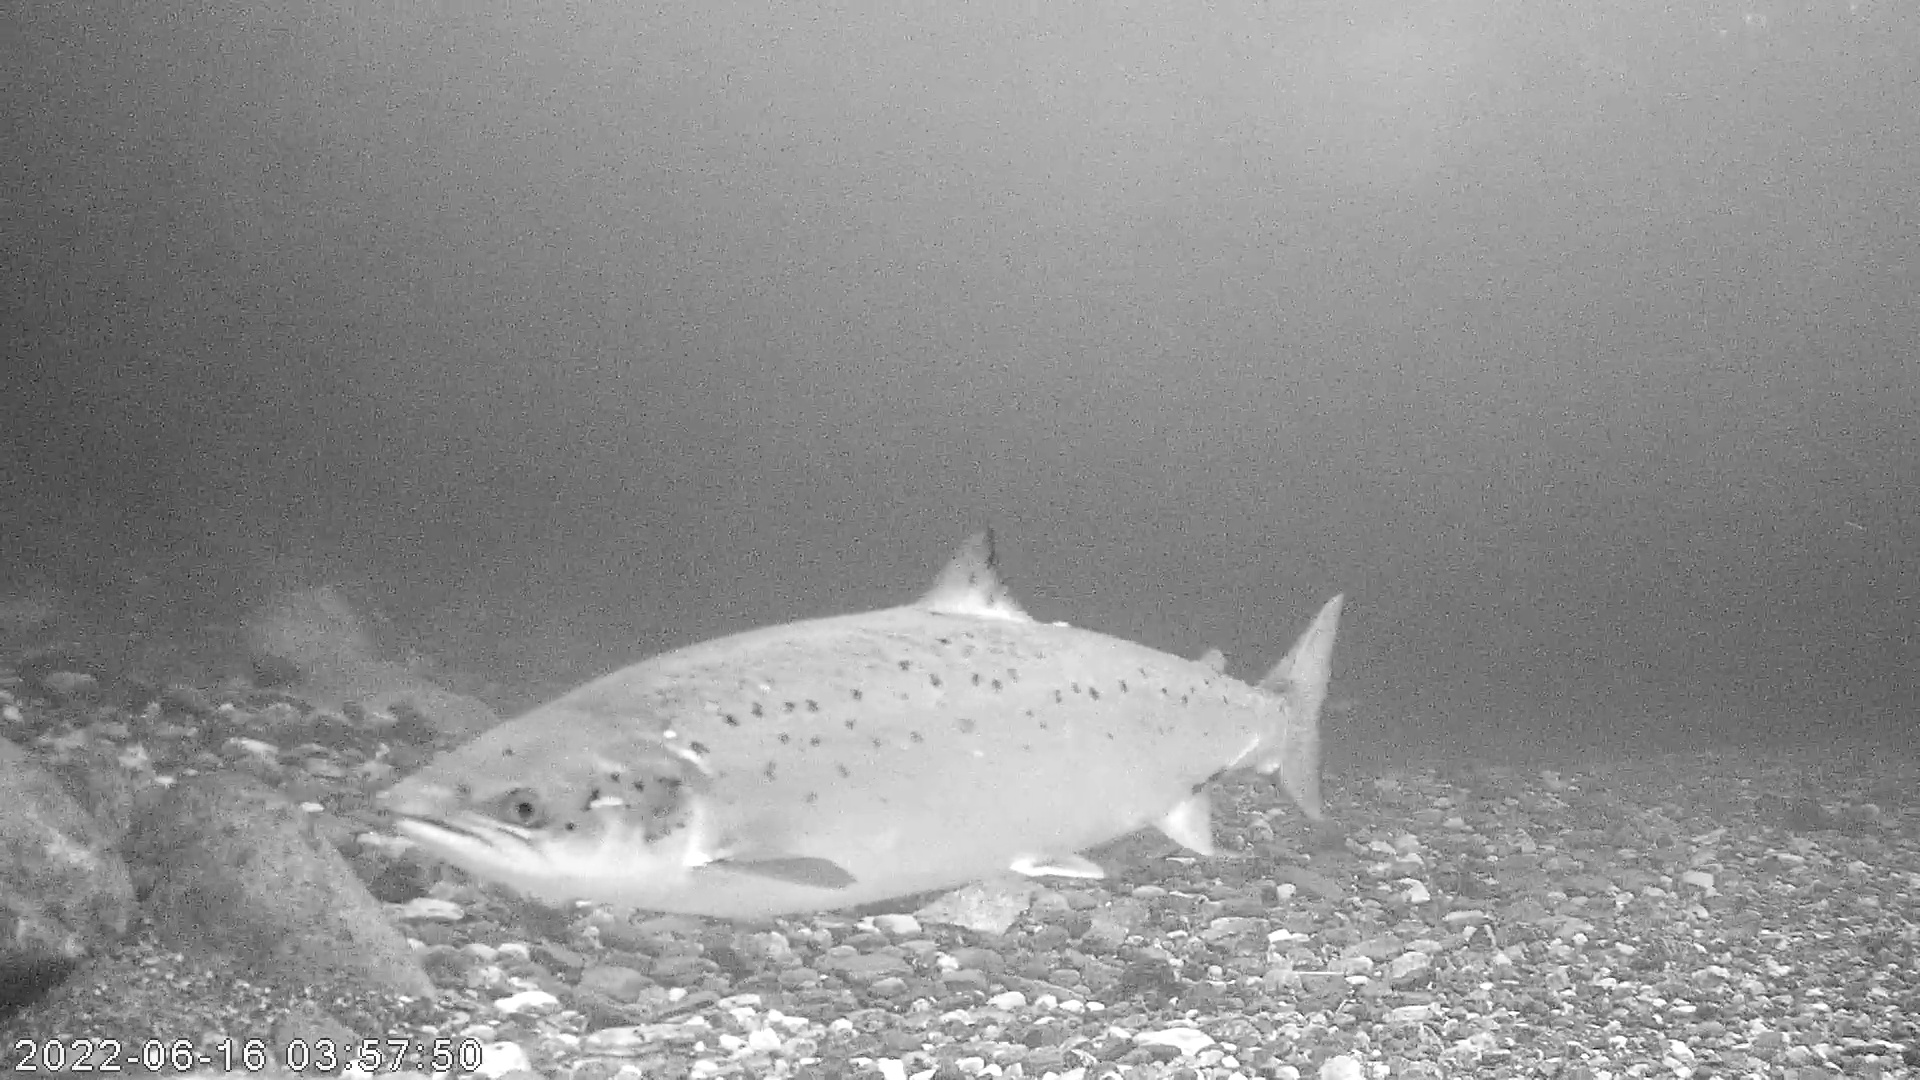salmon: (380, 524, 1350, 919)
